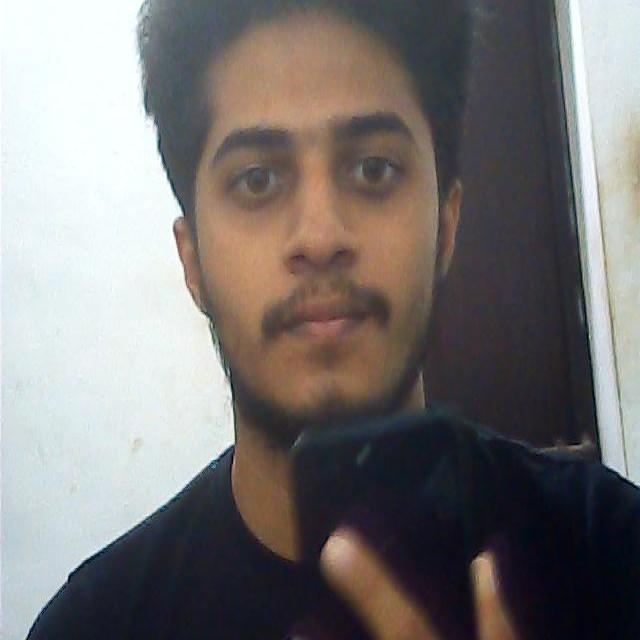phone: (293, 413, 495, 640)
